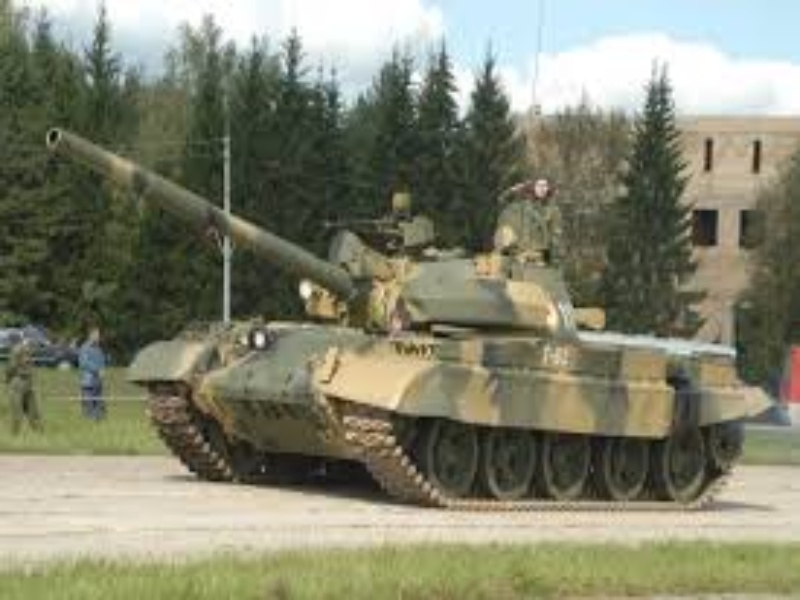tank: (45, 120, 777, 511)
